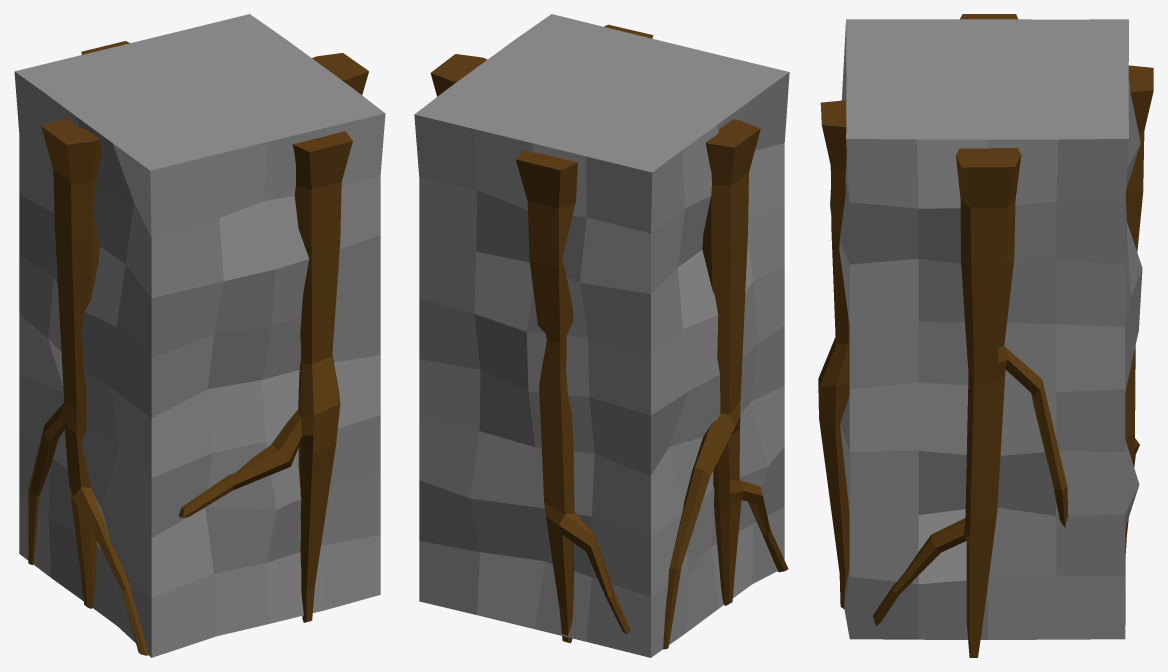
File: Cave Wall Roots.fbx
The picture shows the model from 3 angles, left to right: view 1: azimuth 30°, elevation 25°; view 2: azimuth 150°, elevation 25°; view 3: azimuth 270°, elevation 25°; orthographic projection. The views are drawn at different scales.
Parts seen in each view (by area): view 1: Cube.031; view 2: Cube.031; view 3: Cube.031.
Part boxes in pixels (x1,y1,x2,y2): Cube.031: (14,14,385,657); Cube.031: (414,14,789,657); Cube.031: (818,14,1153,657).
Size of the model in its own units: 132 by 204 by 122.
